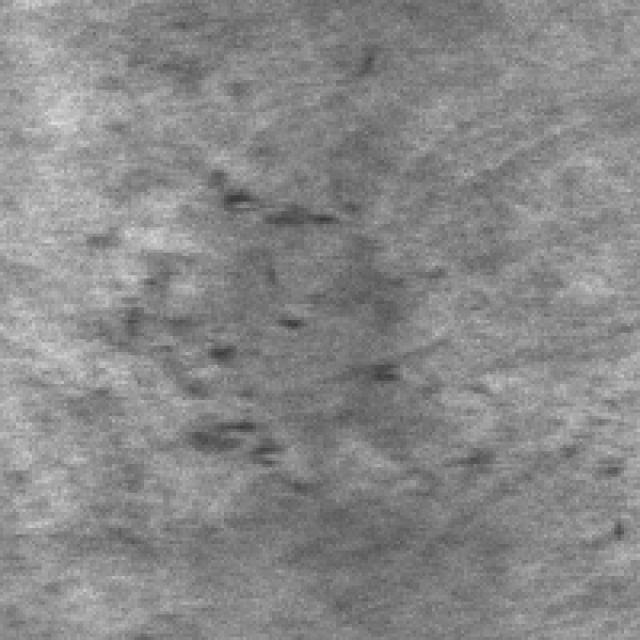rolled-in_scale: (131, 163, 387, 474), (525, 368, 637, 531)
